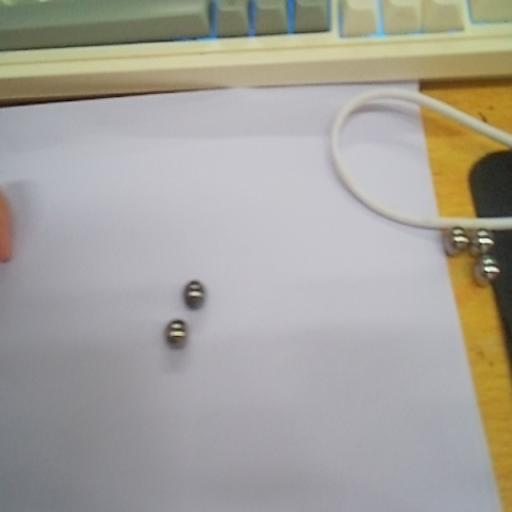steel-ball: (158, 317, 192, 356), (180, 276, 210, 311)
